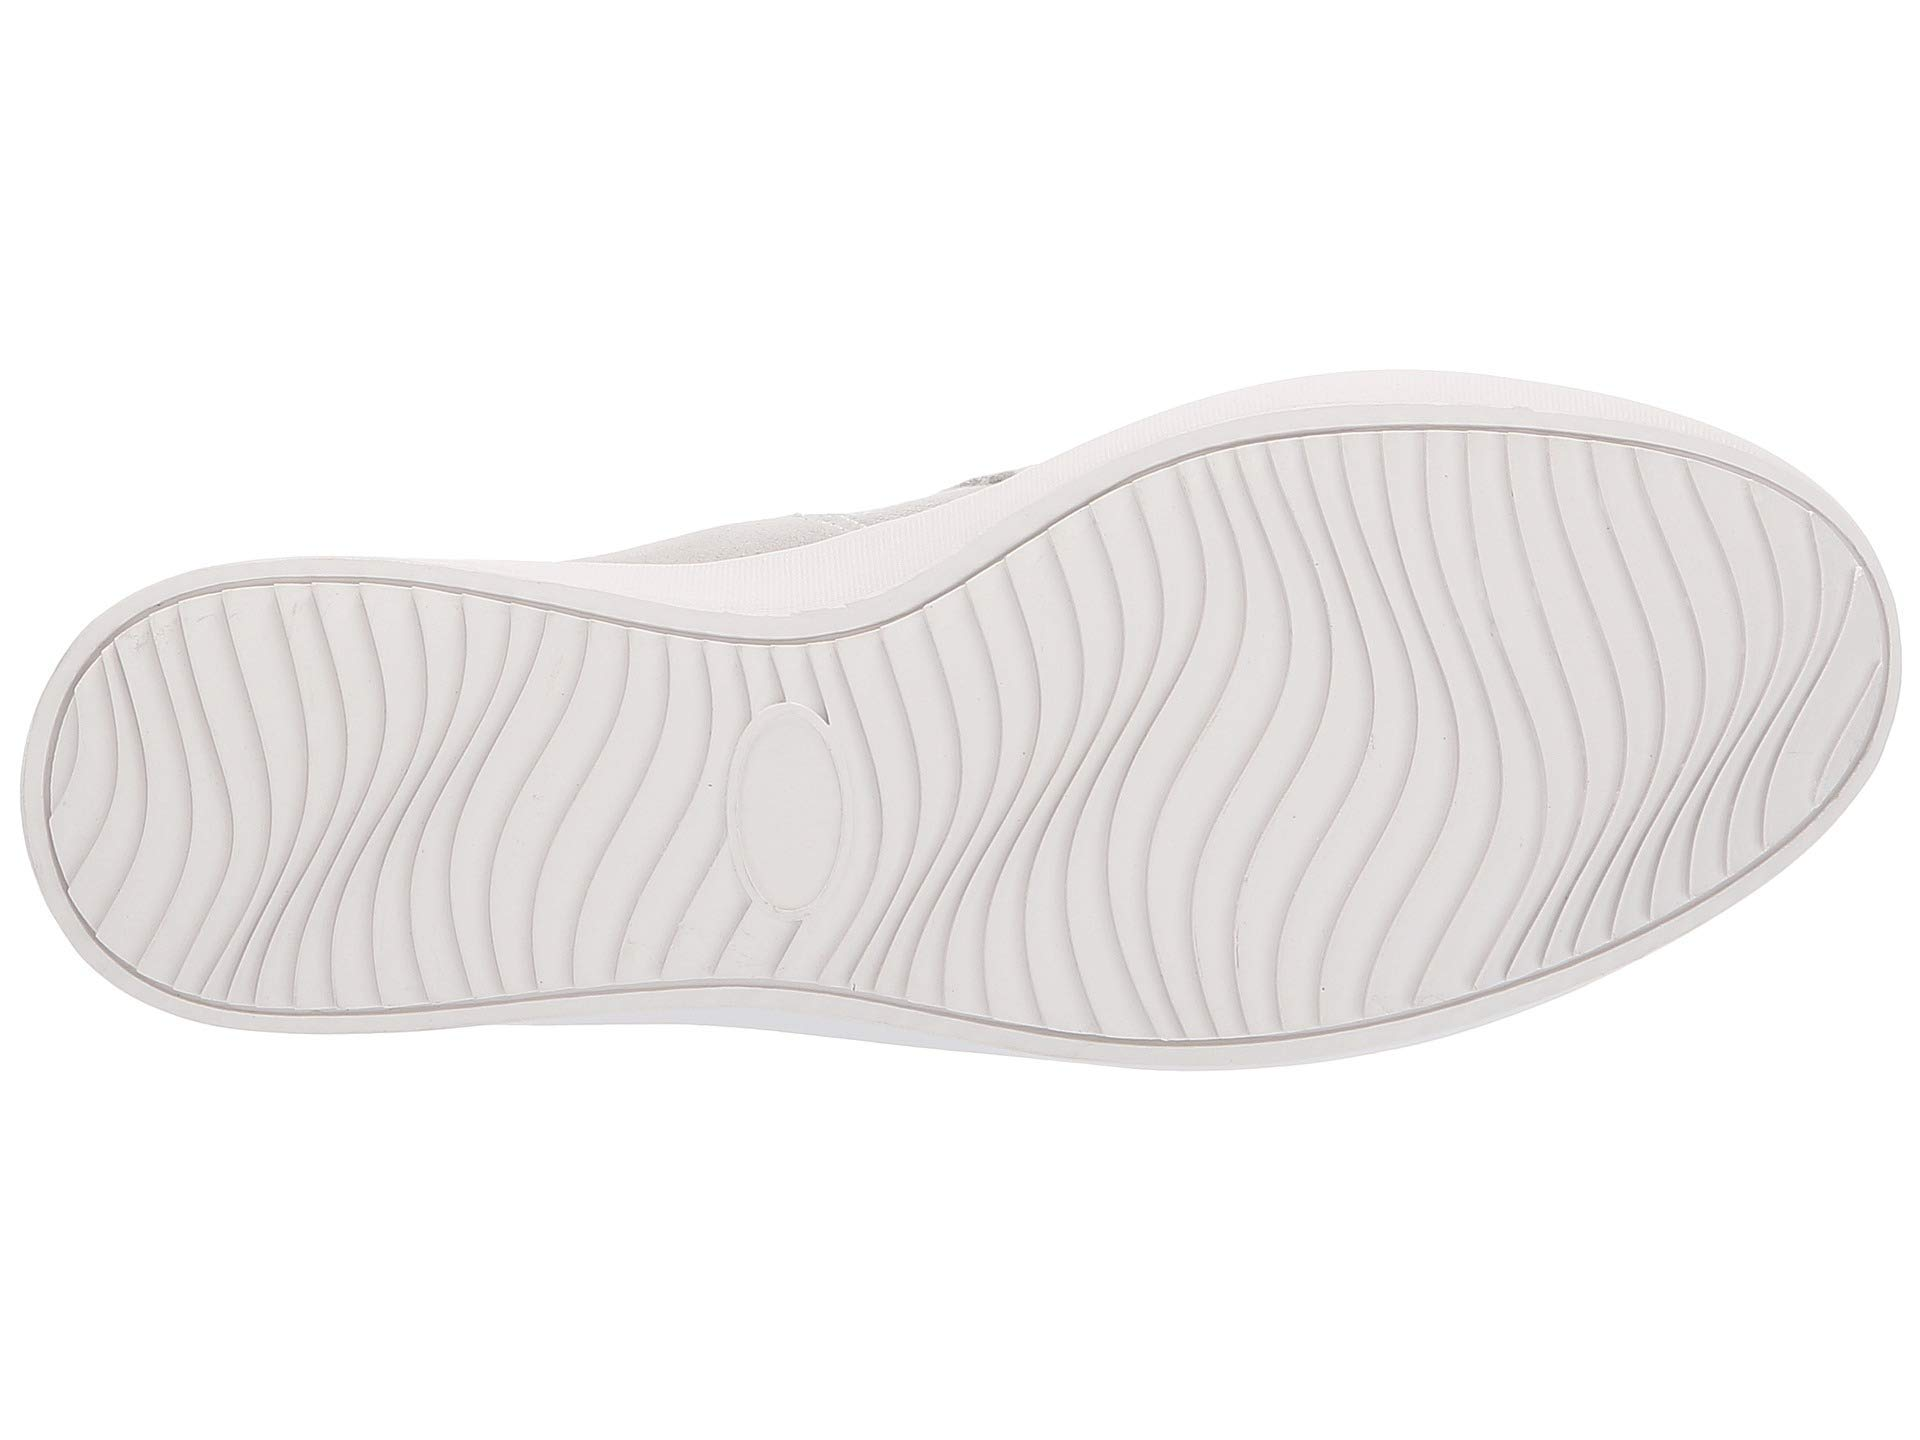chevron: (1079, 534, 1569, 902), (635, 650, 955, 979)
circle: (635, 650, 955, 979)
line: (1462, 464, 1737, 700), (1212, 715, 1454, 961), (159, 646, 370, 873), (1034, 746, 1141, 856)
